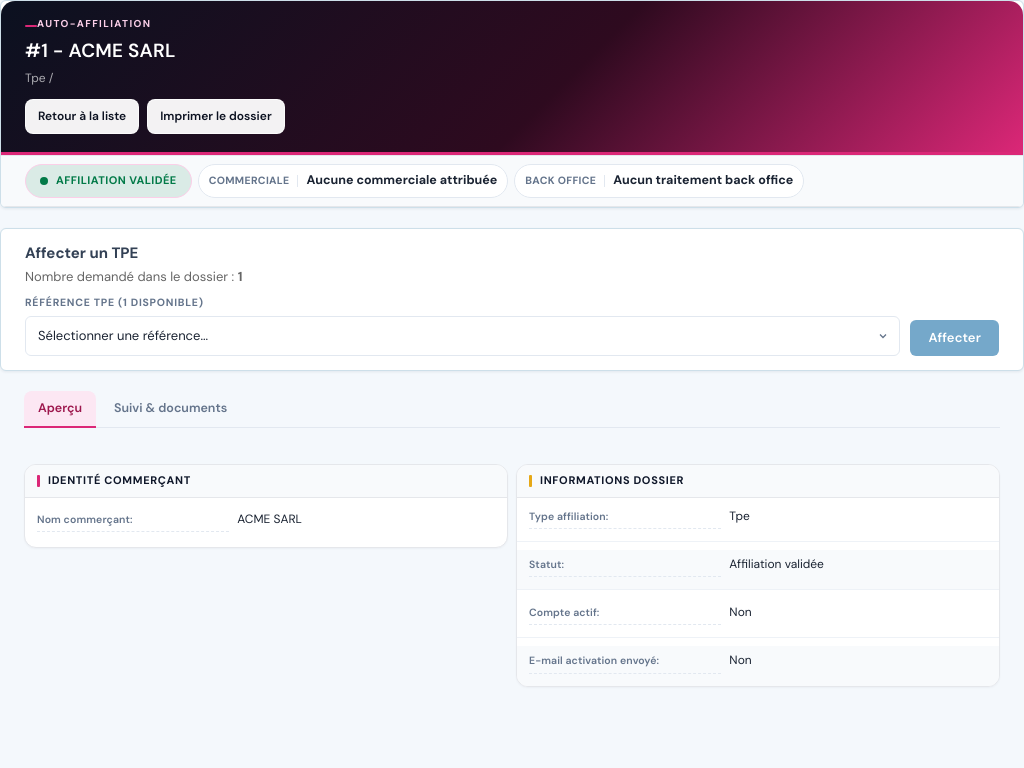
Scenario: CommercialDossierDetailPage › un back office peut affecter un TPE disponible a un dossier accepte
Select "SN-5 — M1 (TPE)" in the dropdown labelled "Référence TPE (1 disponible)": (463, 336) [25,316,900,356]
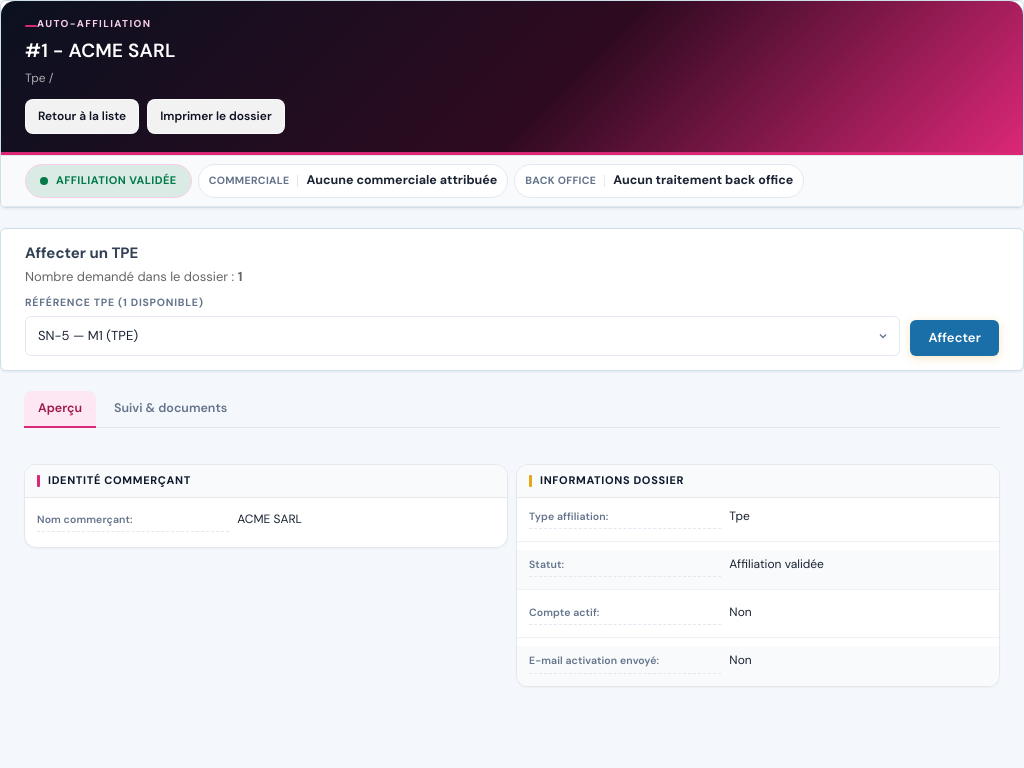
Click the button "Affecter": (955, 338) [910,320,999,356]
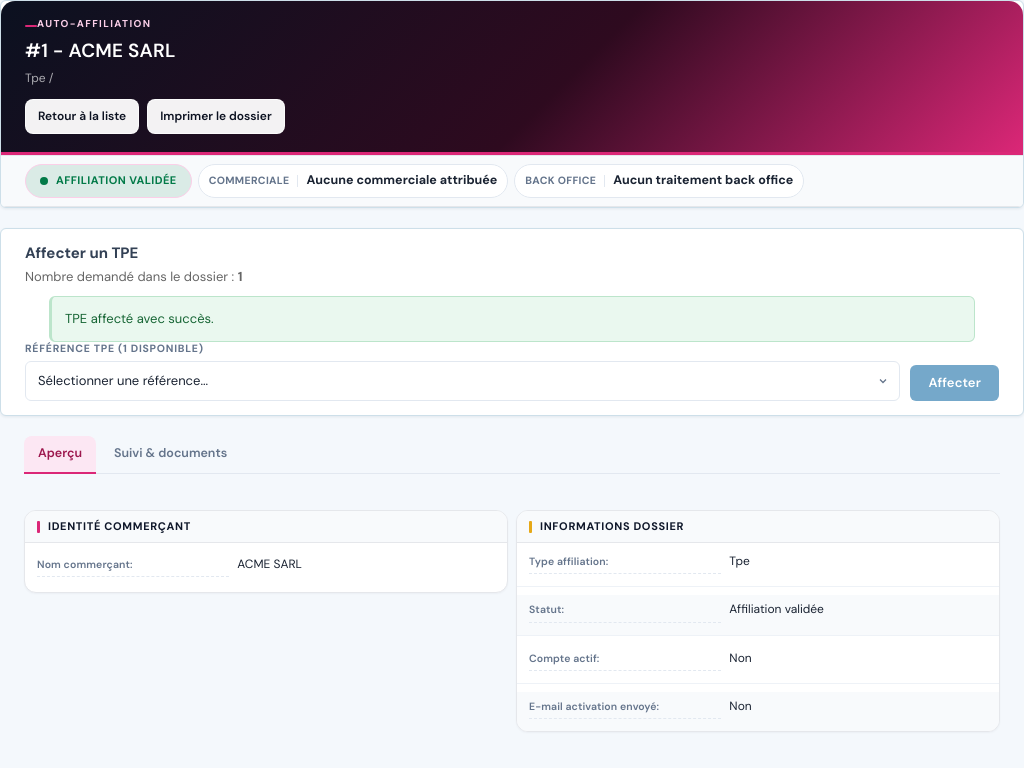
Now the text "TPE affecté avec succès." is shown, box [49,296,975,342]
